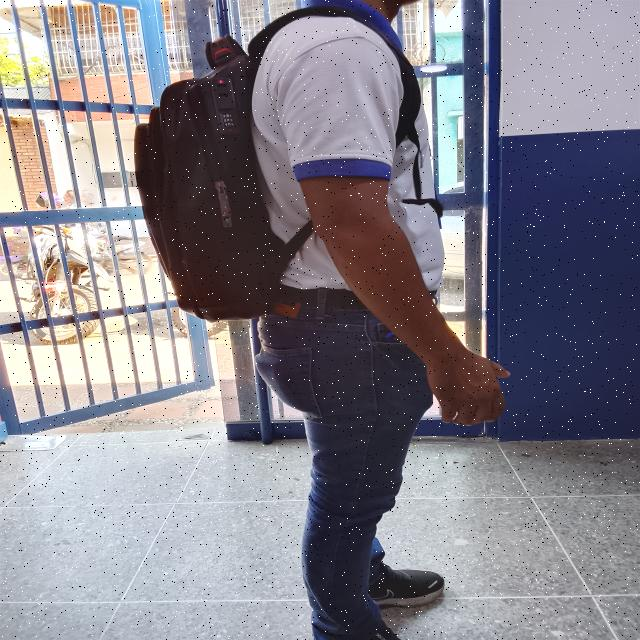uniforme_superior: (250, 0, 446, 292)
